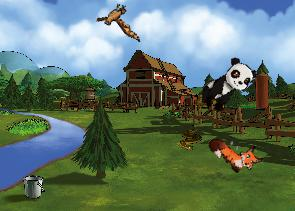eagle: (93, 0, 145, 42)
fox: (205, 121, 266, 182)
panda: (195, 53, 259, 118)
